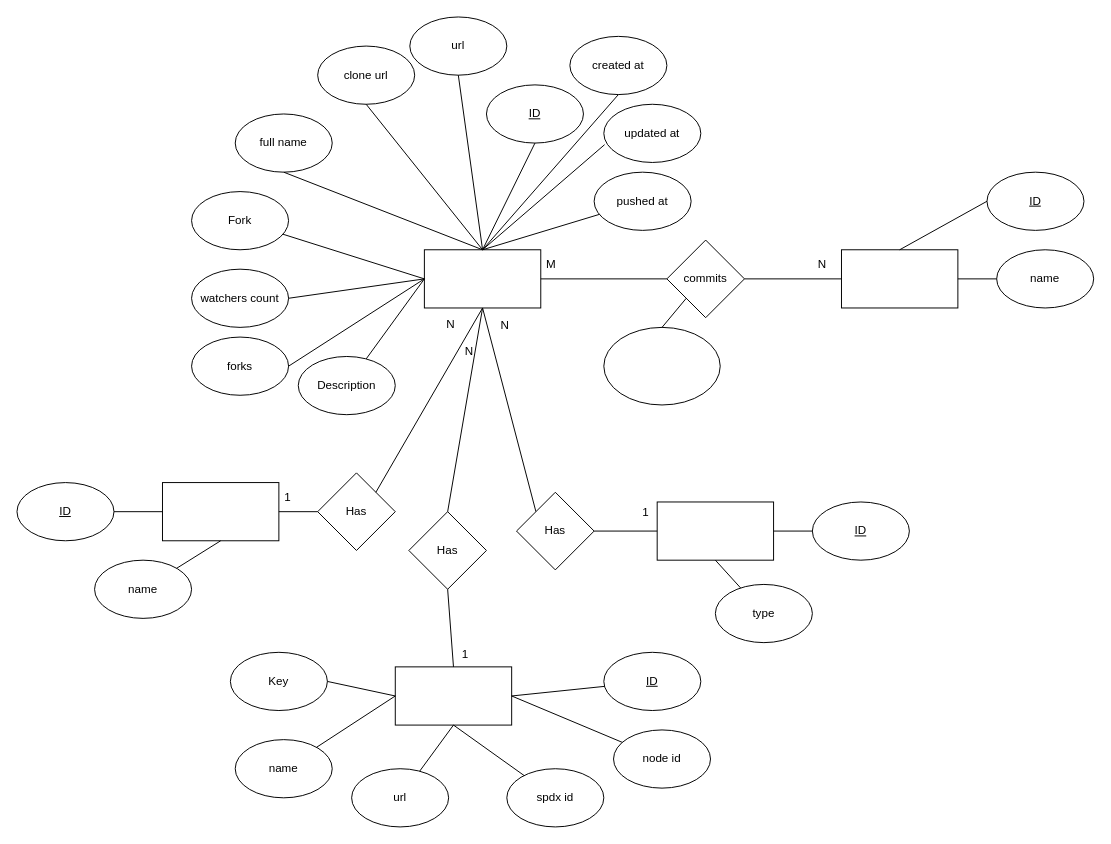
Image size: 1111x844. Some labels were removed from this diagram. Each missing label, with the centre of its shape:
"commit count" goes at point (661, 365).
"Contributors" goes at point (899, 278).
"Languages" goes at point (220, 511).
"Licenses" goes at point (453, 695).
"owner" goes at point (715, 530).
"Repositories" goes at point (482, 278).
